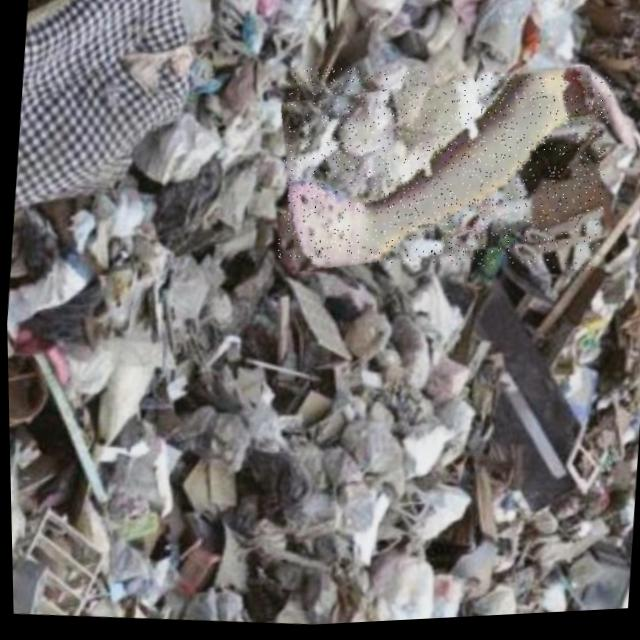Person in Rubble: (270, 56, 612, 291)
